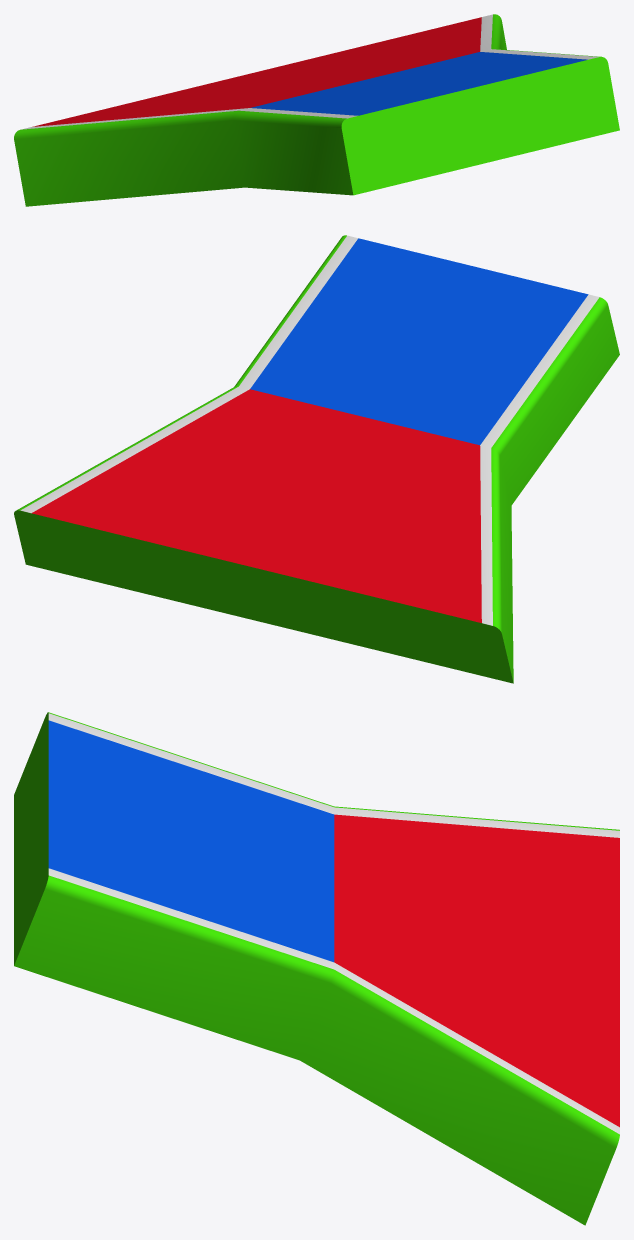
Rendered from DarYoldan_OrtaYola_Gecis_Asagi.fbx.
3 views of the same model, one above another, from view 1: azimuth 30°, elevation 25°; view 2: azimuth 150°, elevation 25°; view 3: azimuth 270°, elevation 25° (orthographic). The views are drawn at different scales.
Parts seen in each view (by area): view 1: DarYoldan_OrtaYola_Gecis_Asagi; view 2: DarYoldan_OrtaYola_Gecis_Asagi; view 3: DarYoldan_OrtaYola_Gecis_Asagi.
Part boxes in pixels (bbox=[...]): DarYoldan_OrtaYola_Gecis_Asagi: bbox=[14, 14, 619, 206]; DarYoldan_OrtaYola_Gecis_Asagi: bbox=[14, 235, 619, 683]; DarYoldan_OrtaYola_Gecis_Asagi: bbox=[14, 712, 619, 1225].
Bounding box in the file's own units: 1098 × 449 × 897.
